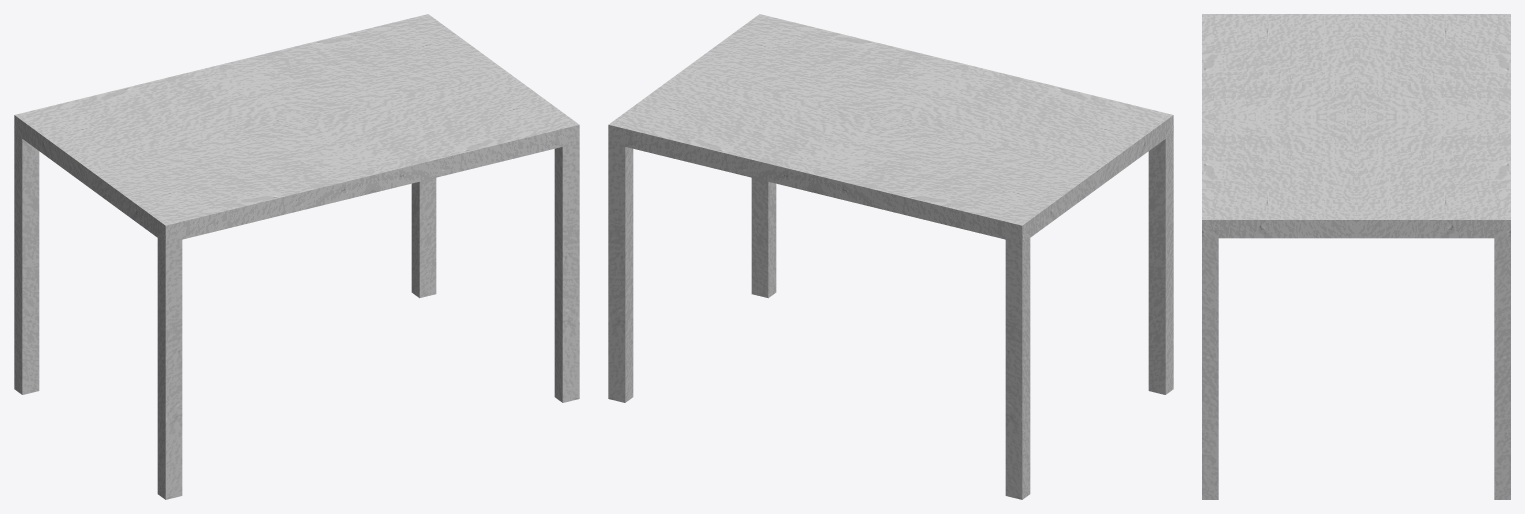
Rendered from Table_2x2x4.fbx.
The picture shows the model from 3 angles, left to right: view 1: azimuth 30°, elevation 25°; view 2: azimuth 150°, elevation 25°; view 3: azimuth 270°, elevation 25°; orthographic projection. The views are drawn at different scales.
Parts seen in each view (by area): view 1: TableFab2; view 2: TableFab2; view 3: TableFab2.
Boxes of the visible parts, x1,y1,x2,y2 form: TableFab2: (14, 14, 579, 499); TableFab2: (608, 14, 1173, 499); TableFab2: (1202, 14, 1510, 499).
Bounding box in the file's own units: 121 × 76.6 × 76.6.
